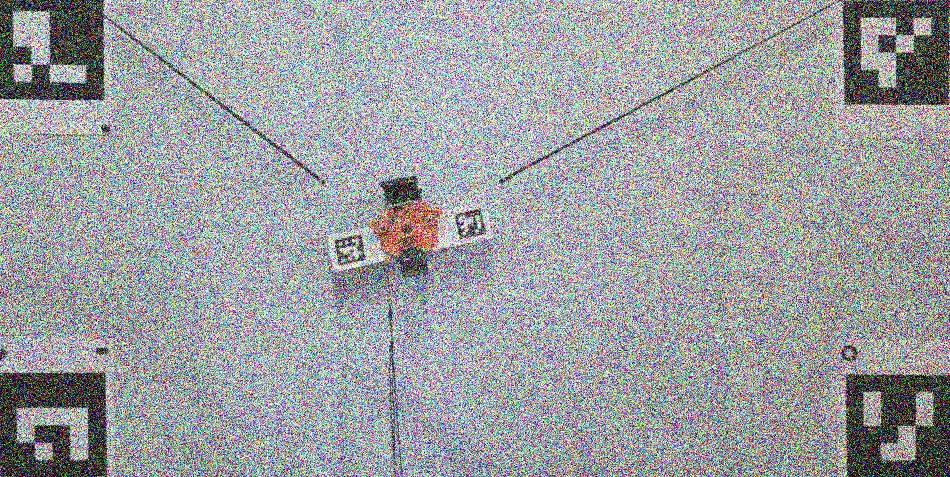robot: (370, 176, 443, 276)
